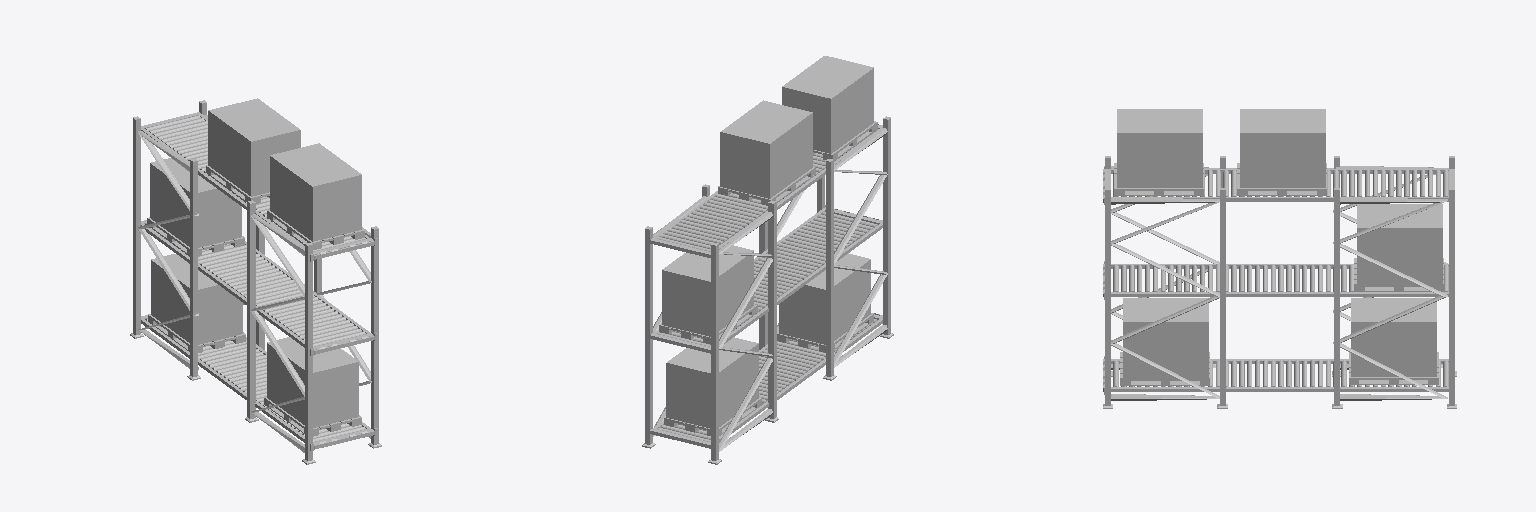
Rendered from noguer_caixes.obj.
3 renders of one model, left to right at view 1: azimuth 30°, elevation 25°; view 2: azimuth 150°, elevation 25°; view 3: azimuth 270°, elevation 25°, orthographic.
Visible parts, largest first — view 1: Cylinder, Cube.001, Plane.006, Plane.007, Plane.005, Plane.004, Plane.008, Plane.003, Plane.002, Plane.001; view 2: Cylinder, Cube.001, Plane.007, Plane.006, Plane.008, Plane.004, Plane.003, Plane.005, Plane.002; view 3: Cylinder, Plane.006, Plane.007, Plane.003, Plane.008, Plane.005, Plane.004, Cube.001, Plane.002.
Boxes of the visible parts, x1=… form: Cylinder: x1=145, y1=115, x2=365, y2=441; Cube.001: x1=130, y1=100, x2=381, y2=464; Plane.006: x1=267, y1=143, x2=364, y2=249; Plane.007: x1=206, y1=98, x2=300, y2=203; Plane.005: x1=264, y1=337, x2=361, y2=436; Plane.004: x1=148, y1=254, x2=245, y2=352; Plane.008: x1=147, y1=158, x2=244, y2=256; Plane.003: x1=138, y1=115, x2=371, y2=452; Plane.002: x1=141, y1=112, x2=373, y2=444; Plane.001: x1=310, y1=238, x2=376, y2=451; Cylinder: x1=657, y1=129, x2=877, y2=441; Cube.001: x1=642, y1=116, x2=893, y2=464; Plane.007: x1=718, y1=100, x2=815, y2=205; Plane.006: x1=782, y1=56, x2=877, y2=160; Plane.008: x1=659, y1=245, x2=757, y2=344; Plane.004: x1=664, y1=337, x2=761, y2=435; Plane.003: x1=653, y1=128, x2=887, y2=451; Plane.005: x1=777, y1=253, x2=873, y2=352; Plane.002: x1=650, y1=125, x2=882, y2=448; Cylinder: x1=1113, y1=170, x2=1448, y2=386; Plane.006: x1=1114, y1=109, x2=1203, y2=195; Plane.007: x1=1237, y1=109, x2=1326, y2=195; Plane.003: x1=1111, y1=166, x2=1447, y2=400; Plane.008: x1=1354, y1=204, x2=1443, y2=291; Plane.005: x1=1120, y1=298, x2=1209, y2=385; Plane.004: x1=1349, y1=298, x2=1438, y2=384; Cube.001: x1=1103, y1=156, x2=1456, y2=408; Plane.002: x1=1105, y1=168, x2=1454, y2=391.
Bounding box in the file's own units: 1.13 × 3.88 × 4.62.